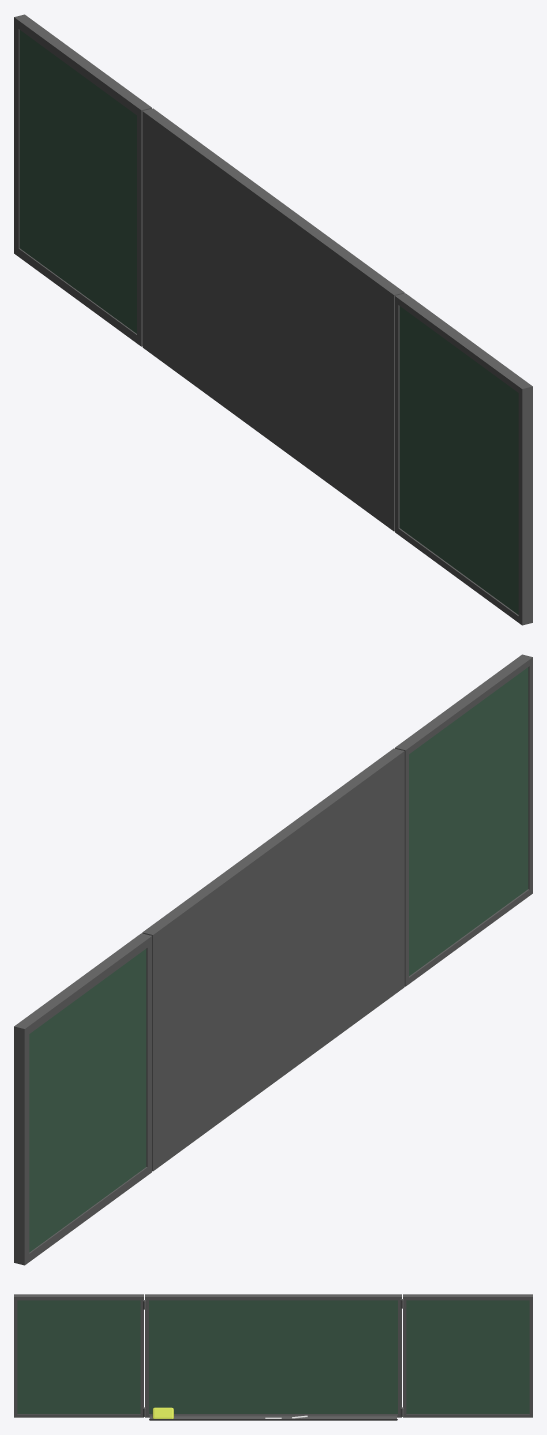
Rendered from tablica.fbx.
3 views of the same model, one above another, from view 1: azimuth 30°, elevation 25°; view 2: azimuth 150°, elevation 25°; view 3: azimuth 270°, elevation 25° (orthographic). The views are drawn at different scales.
Visible parts, largest first — view 1: Tablica; view 2: Tablica; view 3: Tablica.
Boxes of the visible parts, x1=… form: Tablica: x1=14, y1=14, x2=532, y2=625; Tablica: x1=14, y1=654, x2=532, y2=1265; Tablica: x1=14, y1=1294, x2=532, y2=1420.
Bounding box in the file's own units: 32.73 × 264 × 1029.
